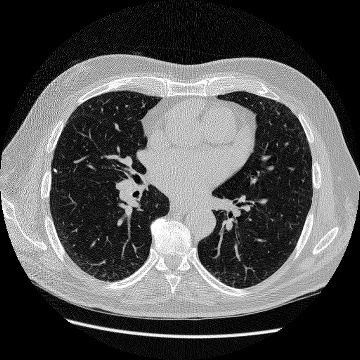nodule: (53, 168, 57, 172)
